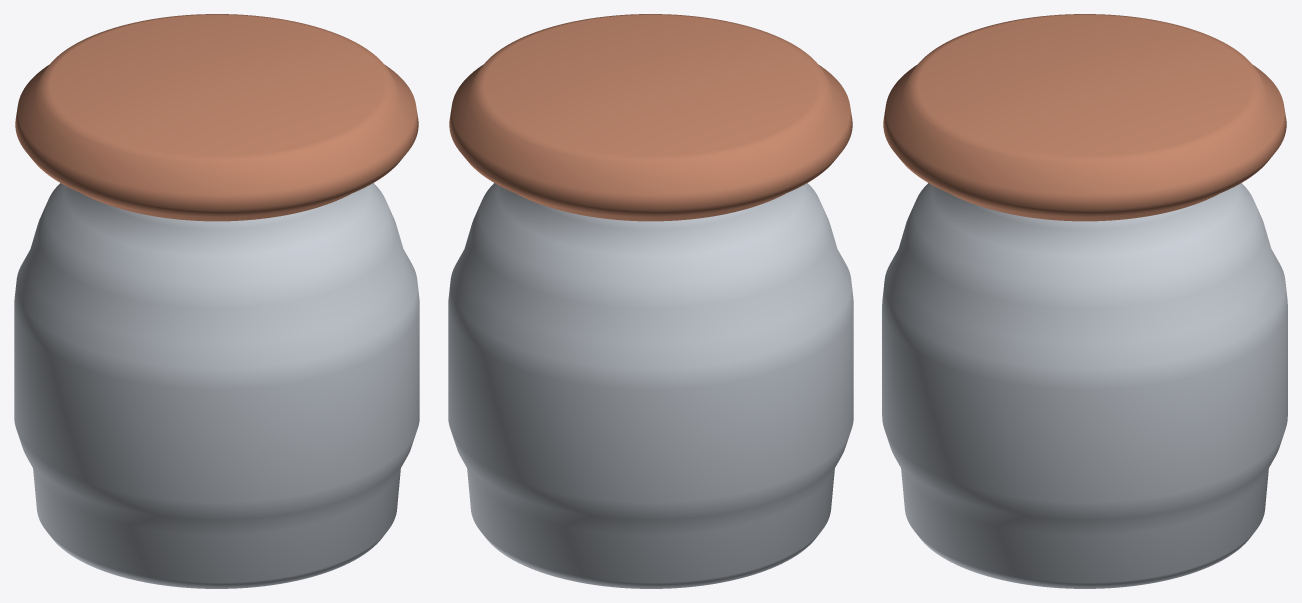
Rendered from jar_o_light.glb.
3 renders of one model, left to right at view 1: azimuth 30°, elevation 25°; view 2: azimuth 150°, elevation 25°; view 3: azimuth 270°, elevation 25°, orthographic.
Visible parts, largest first — view 1: glass, lid; view 2: glass, lid; view 3: glass, lid.
Part boxes in pixels (x1,y1,x2,y2): glass: [14, 183, 419, 588]; lid: [15, 14, 418, 221]; glass: [448, 183, 853, 588]; lid: [449, 14, 852, 221]; glass: [882, 183, 1287, 588]; lid: [883, 14, 1286, 221].
Size of the model in its own units: 1.12 by 1.33 by 1.12.
